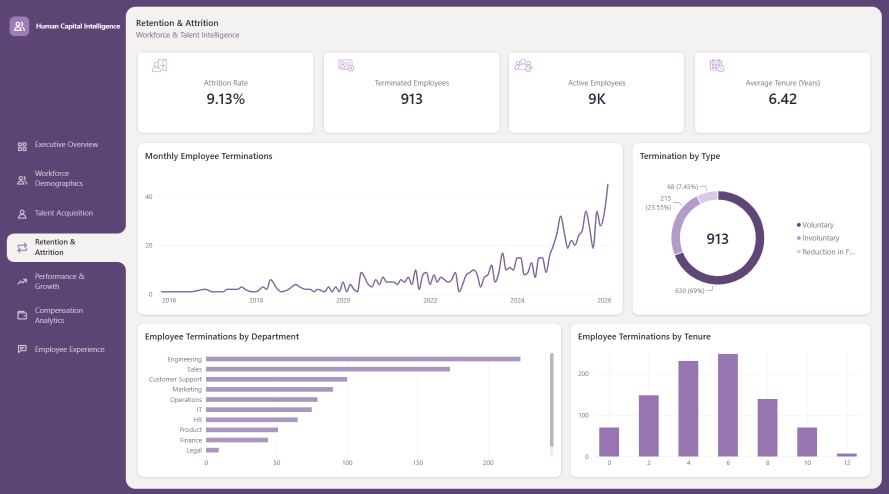

Layout of this report page (visuals, bound fields, positions):
{"tool":"powerbi","page":{"name":"Retention & Attrition","canvas":[1920,1080],"ordinal":4},"visuals":[{"type":"cardVisual","title":"KPI card 1","fields":{"Data":["Dim_Date.Attrition Rate %"]},"box":[300,120,379,176],"z":0},{"type":"cardVisual","title":"KPI card 2","fields":{"Data":["Dim_Date.Terminated Employees"]},"box":[698,120,379,176],"z":1000},{"type":"cardVisual","title":"KPI card 3","fields":{"Data":["Dim_Date.Active Employees"]},"box":[1095,120,379,176],"z":2000},{"type":"cardVisual","title":"KPI card 4","fields":{"Data":["Dim_Date.Average Tenure (Years)"]},"box":[1493,120,379,176],"z":3000},{"type":"lineChart","title":"Monthly Employee Terminations","fields":{"Category":["Dim_Date.MonthStart"],"Y":["Dim_Date.Monthly Terminations"]},"box":[300,314,1042,369],"z":4000},{"type":"donutChart","title":"Termination by Type","fields":{"Category":["fact_employee_current.TerminationType"],"Y":["CountNonNull(fact_employee_current.EmployeeID)"]},"box":[1360,314,512,369],"z":5000},{"type":"clusteredBarChart","title":"Employee Terminations by Department","fields":{"Category":["dim_departments.DepartmentName"],"Y":["Dim_Date.Terminated Employees"]},"box":[300,701,910,331],"z":6000},{"type":"clusteredColumnChart","title":"Employee Terminations by Tenure","fields":{"Category":["fact_employee_current.Tenure Groups"],"Y":["Dim_Date.Terminated Employees"]},"box":[1228,701,644,331],"z":7000},{"type":"textbox","title":"Company","box":[83,54,266,25],"z":8000},{"type":"textbox","title":"Page title","box":[298,45,280,32],"z":9000},{"type":"textbox","title":"Subtitle","box":[298,73,340,27],"z":10000},{"type":"pageNavigator","title":"Page navigation","box":[82,294,150,492],"z":11000},{"type":"image","box":[297.9,120,100,60],"z":12000},{"type":"image","box":[698.6,120,100,60],"z":13000},{"type":"image","box":[1077.9,120,100,60],"z":14000},{"type":"image","box":[1493.6,120,100,60],"z":15000}]}

Visuals, with their boxes on the page's 1920x1080 design canvas (x1, y1, x2, y2). These are canvas units, not pixel positions in the 889x494 screenshot, which may show the page scaled, cropped or inside an application window:
"KPI card 1" cardVisual: {"left": 300, "top": 120, "right": 679, "bottom": 296}
"KPI card 2" cardVisual: {"left": 698, "top": 120, "right": 1077, "bottom": 296}
"KPI card 3" cardVisual: {"left": 1095, "top": 120, "right": 1474, "bottom": 296}
"KPI card 4" cardVisual: {"left": 1493, "top": 120, "right": 1872, "bottom": 296}
"Monthly Employee Terminations" lineChart: {"left": 300, "top": 314, "right": 1342, "bottom": 683}
"Termination by Type" donutChart: {"left": 1360, "top": 314, "right": 1872, "bottom": 683}
"Employee Terminations by Department" clusteredBarChart: {"left": 300, "top": 701, "right": 1210, "bottom": 1032}
"Employee Terminations by Tenure" clusteredColumnChart: {"left": 1228, "top": 701, "right": 1872, "bottom": 1032}
"Company" textbox: {"left": 83, "top": 54, "right": 349, "bottom": 79}
"Page title" textbox: {"left": 298, "top": 45, "right": 578, "bottom": 77}
"Subtitle" textbox: {"left": 298, "top": 73, "right": 638, "bottom": 100}
"Page navigation" pageNavigator: {"left": 82, "top": 294, "right": 232, "bottom": 786}
image: {"left": 298, "top": 120, "right": 398, "bottom": 180}
image: {"left": 699, "top": 120, "right": 799, "bottom": 180}
image: {"left": 1078, "top": 120, "right": 1178, "bottom": 180}
image: {"left": 1494, "top": 120, "right": 1594, "bottom": 180}
